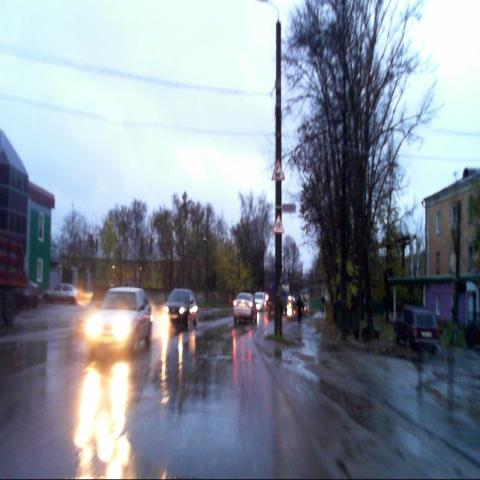1_2: (271, 159, 285, 180)
1_23: (272, 213, 284, 233)
